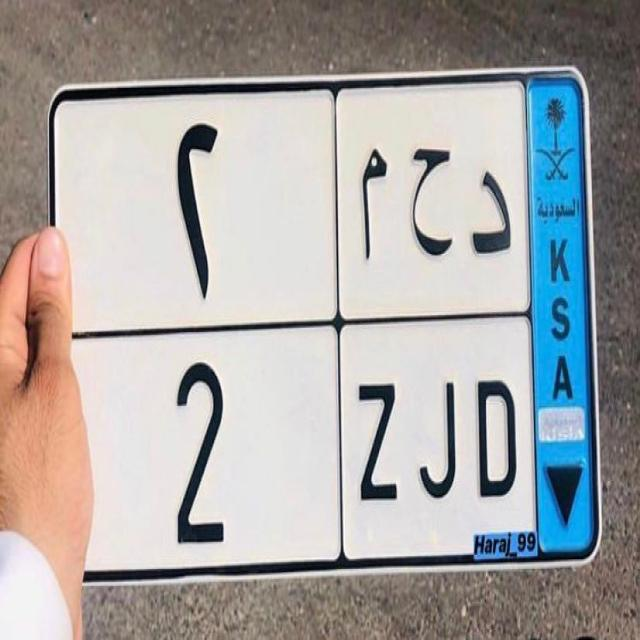license_plate: (125, 344, 529, 561)
